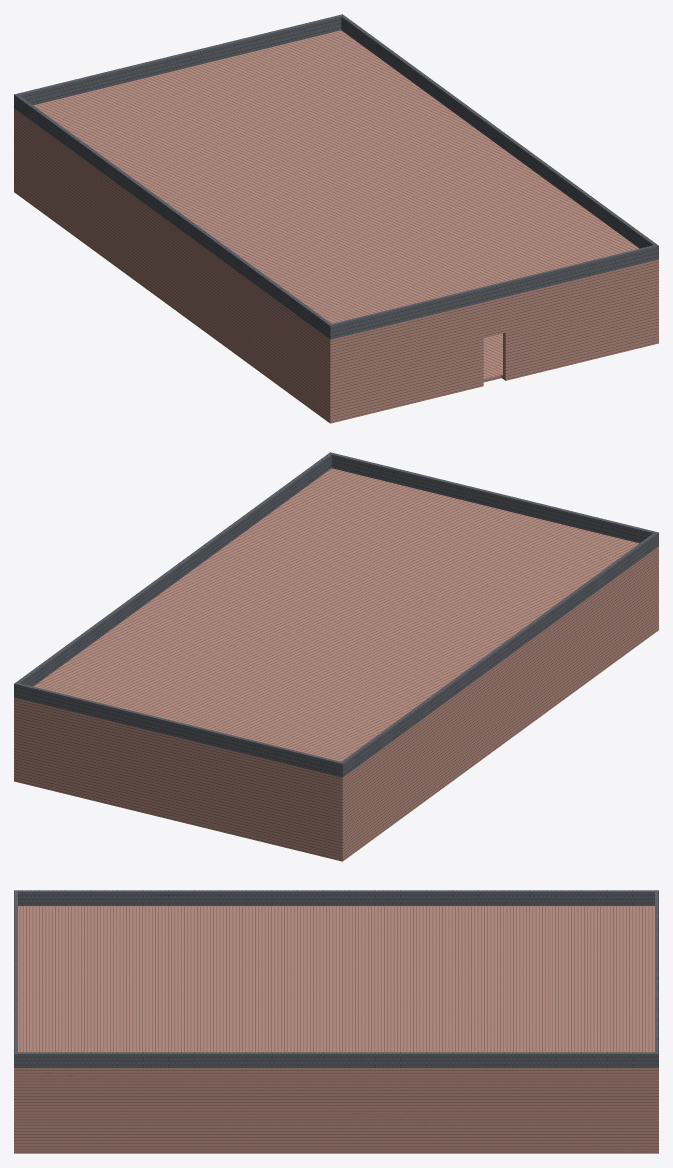
The model's file is small_grocery.glb.
3 renders of one model, top to bottom at view 1: azimuth 30°, elevation 25°; view 2: azimuth 150°, elevation 25°; view 3: azimuth 270°, elevation 25°, orthographic.
Parts seen in each view (by area): view 1: small_grocery-col; view 2: small_grocery-col; view 3: small_grocery-col.
Part boxes in pixels (<box>): small_grocery-col: <box>14,14,658,423</box>; small_grocery-col: <box>14,452,658,861</box>; small_grocery-col: <box>14,890,658,1153</box>.
Bounding box in the file's own units: 15 × 4.26 × 25.
Materials: 2 (2 with a texture image).
